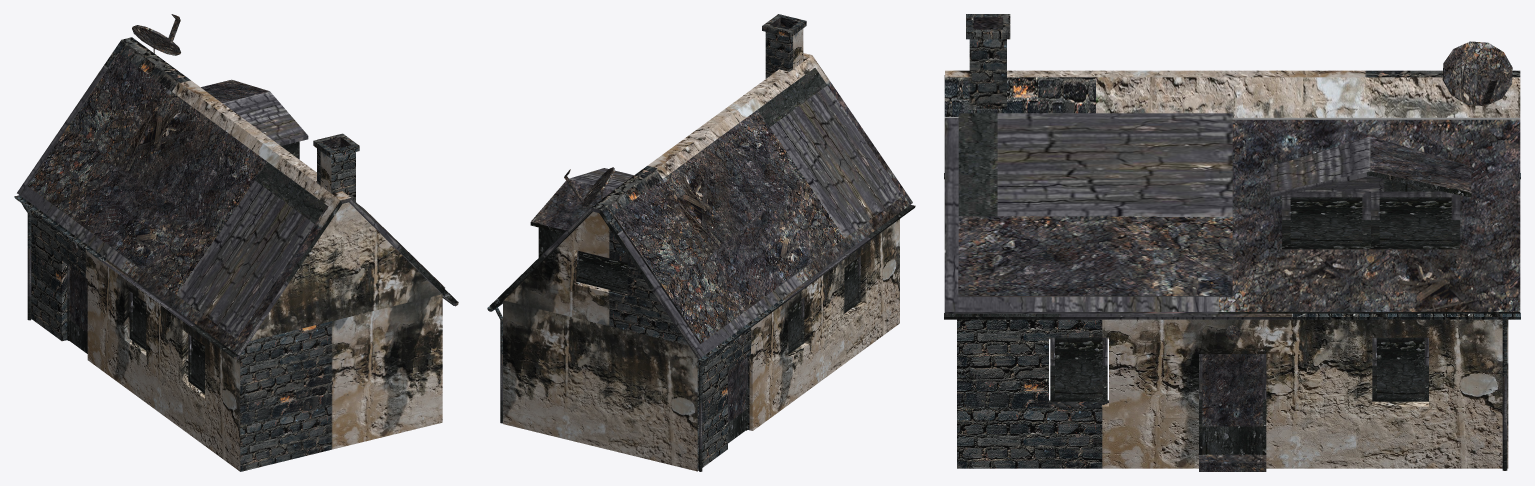
The model's file is small_haus.fbx.
The picture shows the model from 3 angles, left to right: view 1: azimuth 30°, elevation 25°; view 2: azimuth 150°, elevation 25°; view 3: azimuth 270°, elevation 25°; orthographic projection. The views are drawn at different scales.
Visible parts, largest first — view 1: small_haus1_LOD0; view 2: small_haus1_LOD0; view 3: small_haus1_LOD0.
Part boxes in pixels (left/top/right/bottom): small_haus1_LOD0: left=14, top=14, right=458, bottom=471; small_haus1_LOD0: left=487, top=14, right=915, bottom=471; small_haus1_LOD0: left=944, top=14, right=1520, bottom=471.
Size of what is drawn, in the model's own units: 12.16 by 15.18 by 20.6.
